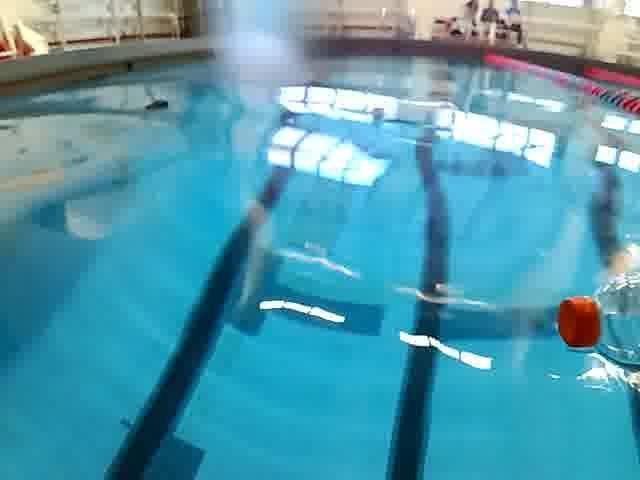Bottle: (549, 269, 640, 369)
